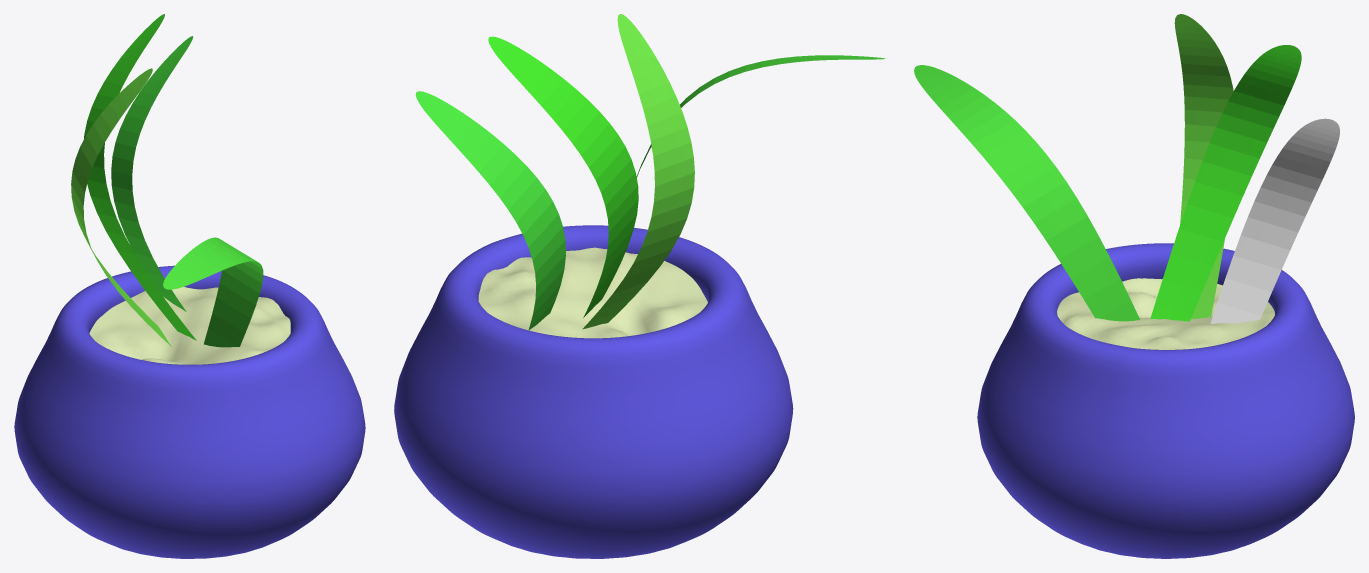
Rendered from plant_shoe.glb.
The picture shows the model from 3 angles, left to right: view 1: azimuth 30°, elevation 25°; view 2: azimuth 150°, elevation 25°; view 3: azimuth 270°, elevation 25°; orthographic projection. The views are drawn at different scales.
Parts seen in each view (by area): view 1: Cylinder, Circle, Plane.003, Plane.004, Plane.002, Plane; view 2: Cylinder, Circle, Plane, Plane.002, Plane.004, Plane.003; view 3: Cylinder, Plane.003, Plane.002, Plane.001, Circle, Plane.
Boxes of the visible parts, box(x1,y1,x2,y2) form: Cylinder: box(14, 265, 365, 558); Circle: box(89, 287, 290, 364); Plane.003: box(163, 237, 263, 347); Plane.004: box(111, 36, 192, 311); Plane.002: box(84, 14, 196, 340); Plane: box(71, 68, 171, 346); Cylinder: box(394, 225, 793, 558); Circle: box(478, 247, 707, 338); Plane: box(582, 14, 694, 329); Plane.002: box(488, 36, 638, 317); Plane.004: box(415, 91, 565, 329); Plane.003: box(636, 55, 885, 177); Cylinder: box(977, 243, 1354, 558); Plane.003: box(914, 65, 1139, 321); Plane.002: box(1150, 45, 1301, 321); Plane.001: box(1210, 118, 1339, 323); Circle: box(1057, 278, 1274, 349); Plane: box(1174, 14, 1233, 319).
Bounding box in the file's own units: 3.65 × 5.33 × 4.26.
